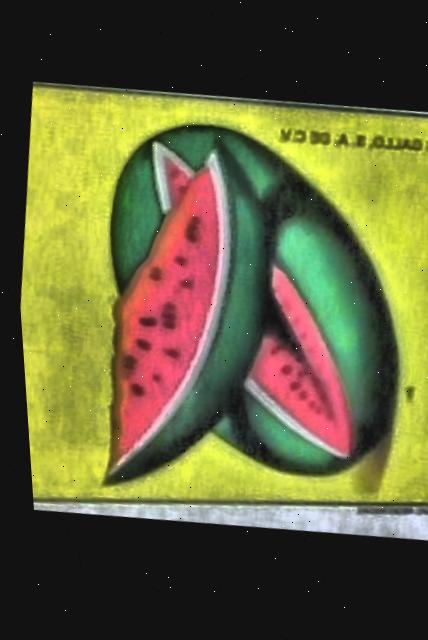La Sandia: (16, 87, 428, 507)
